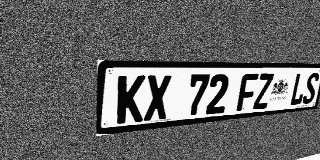2: (206, 74, 230, 115)
7: (185, 74, 210, 117)
F: (236, 74, 259, 111)
K: (116, 75, 146, 124)
L: (289, 73, 308, 106)
S: (301, 73, 320, 104)
X: (144, 75, 171, 121)
Z: (253, 73, 274, 110)
